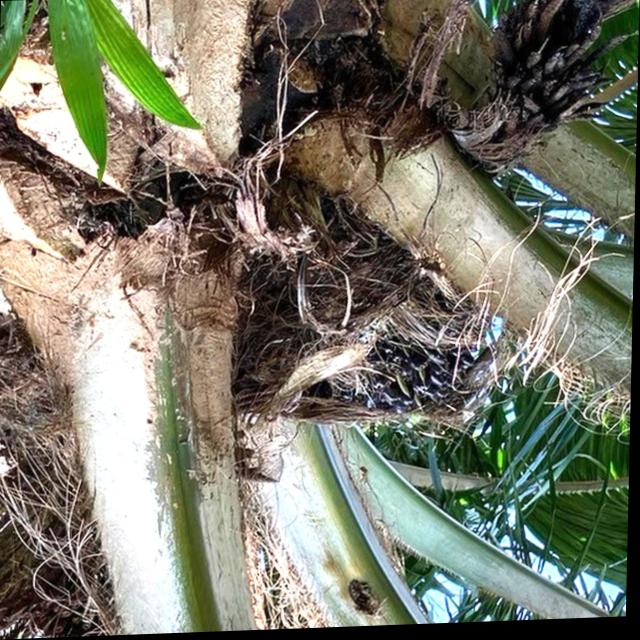unripe: (303, 231, 491, 448)
